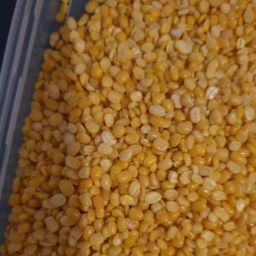Red Split Lentils(malka masar): (33, 4, 256, 256), (83, 23, 237, 256), (109, 29, 256, 218), (5, 72, 118, 256)
